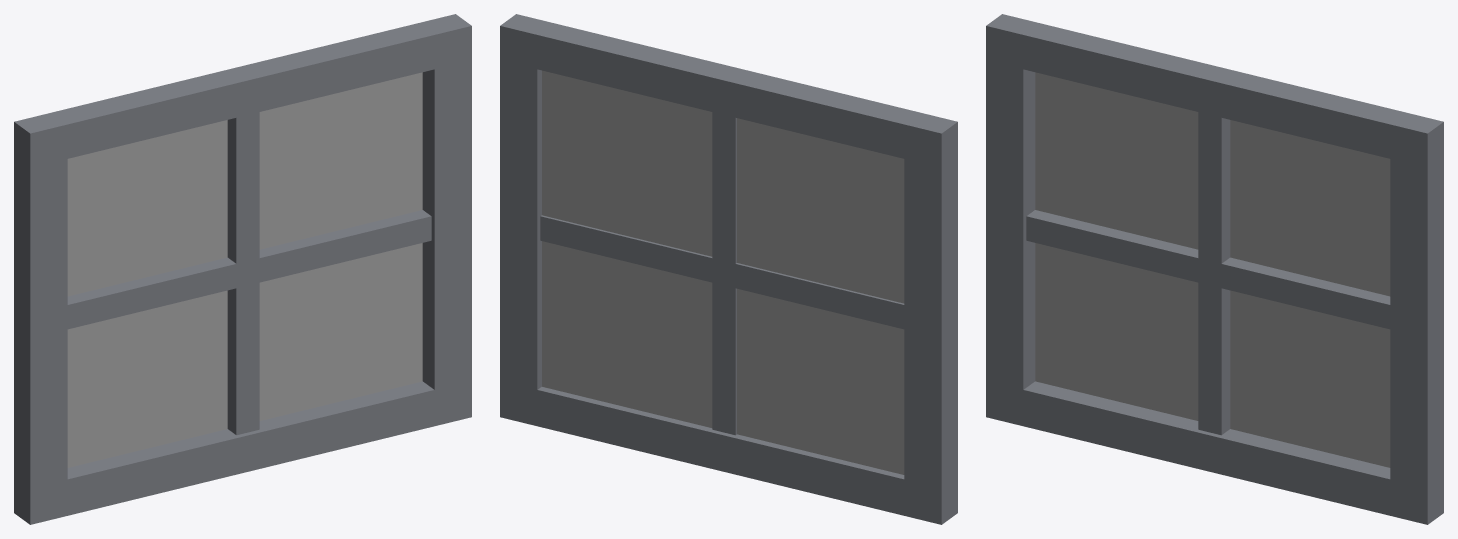
Rendered from Window_2B.fbx.
3 views of the same model, side by side, from view 1: azimuth 30°, elevation 25°; view 2: azimuth 150°, elevation 25°; view 3: azimuth 330°, elevation 25° (orthographic).
Visible parts, largest first — view 1: polySurface2311, Window_Glass4; view 2: Window_Glass4, polySurface2311; view 3: polySurface2311, Window_Glass4.
Boxes of the visible parts, left/top/right/bottom form: polySurface2311: left=14, top=14, right=471, bottom=524; Window_Glass4: left=67, top=72, right=422, bottom=467; Window_Glass4: left=542, top=70, right=904, bottom=474; polySurface2311: left=500, top=14, right=957, bottom=524; polySurface2311: left=986, top=14, right=1443, bottom=524; Window_Glass4: left=1035, top=72, right=1390, bottom=467.
Bounding box in the file's own units: 2.36 × 2 × 0.15.
2 materials, 1 textured.
